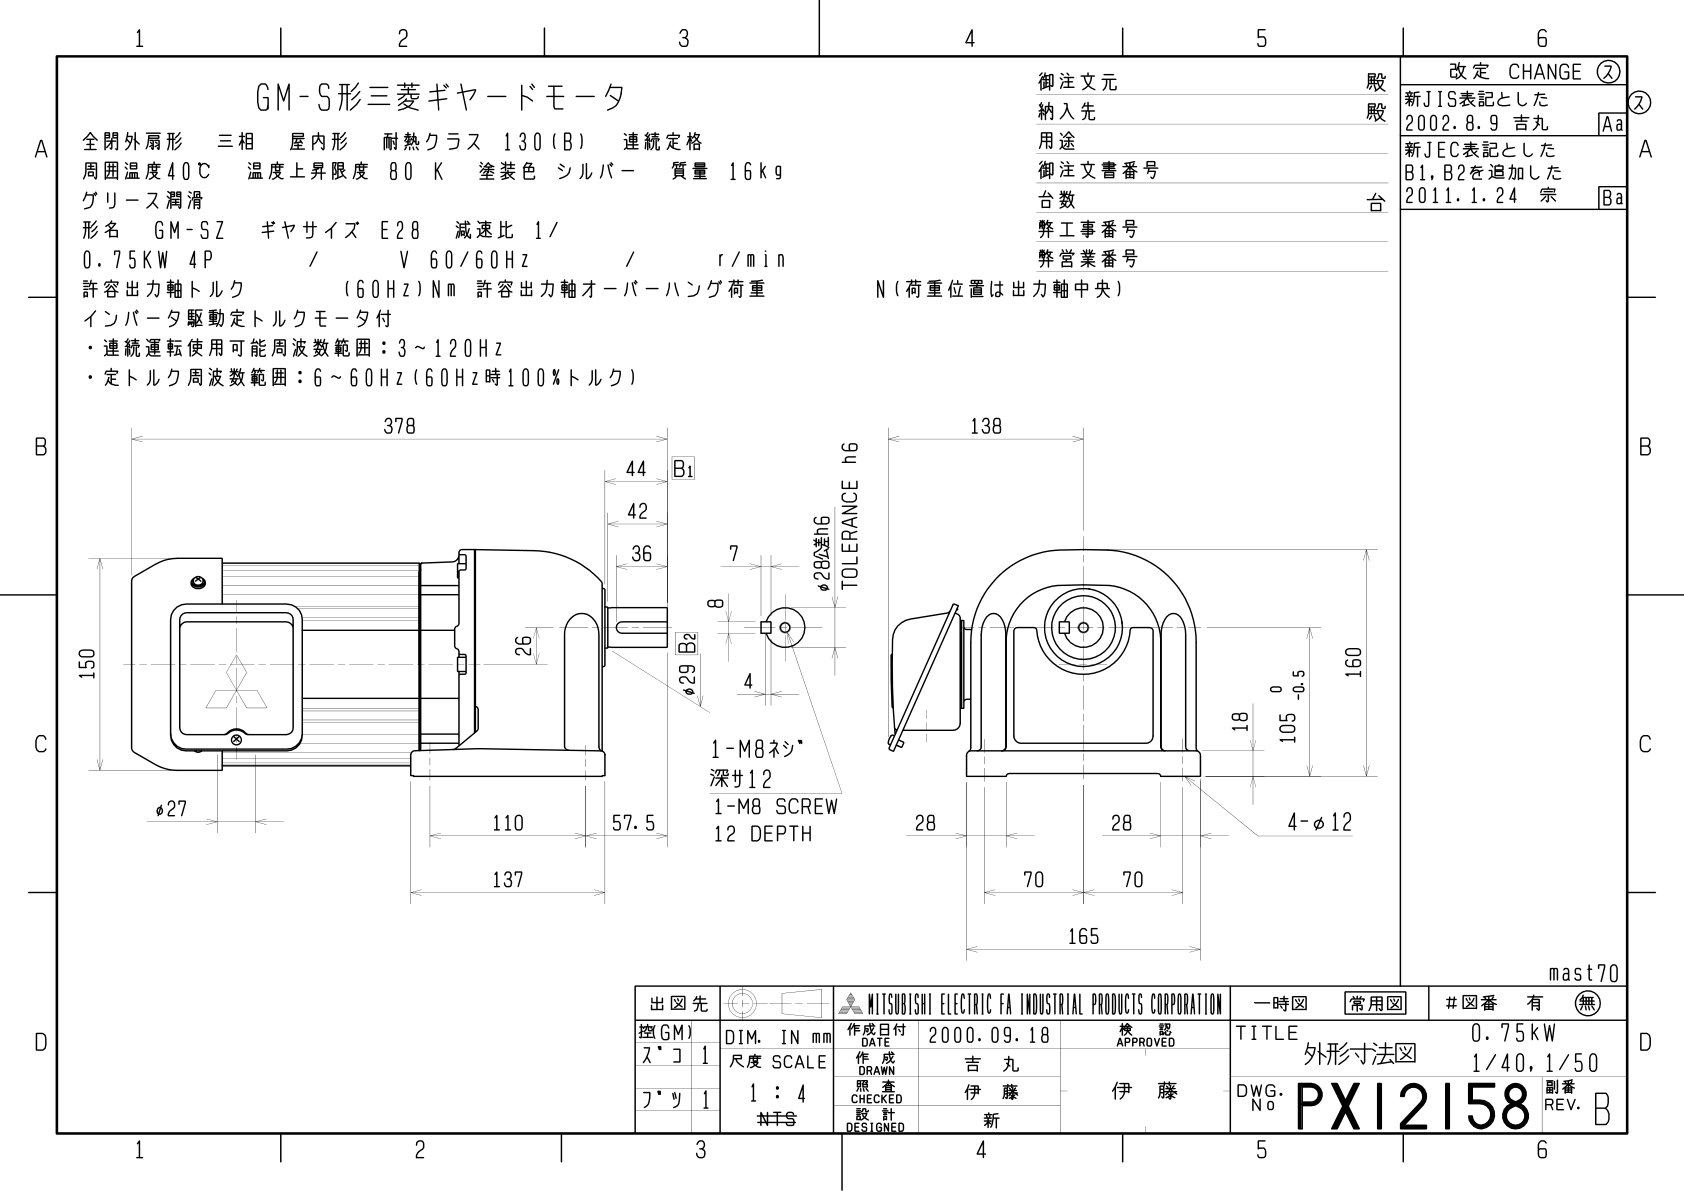GM_S_インバタ屋外＿三相_脚: (58, 396, 1392, 969)
